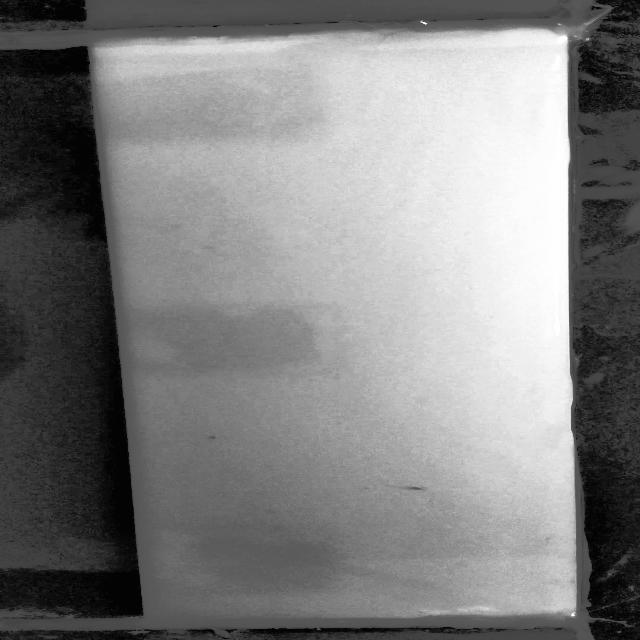shrimp: (194, 428, 227, 448), (396, 482, 431, 498)
